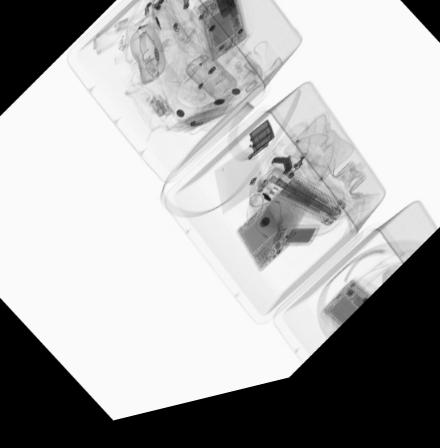Lighter: (247, 189, 270, 219)
